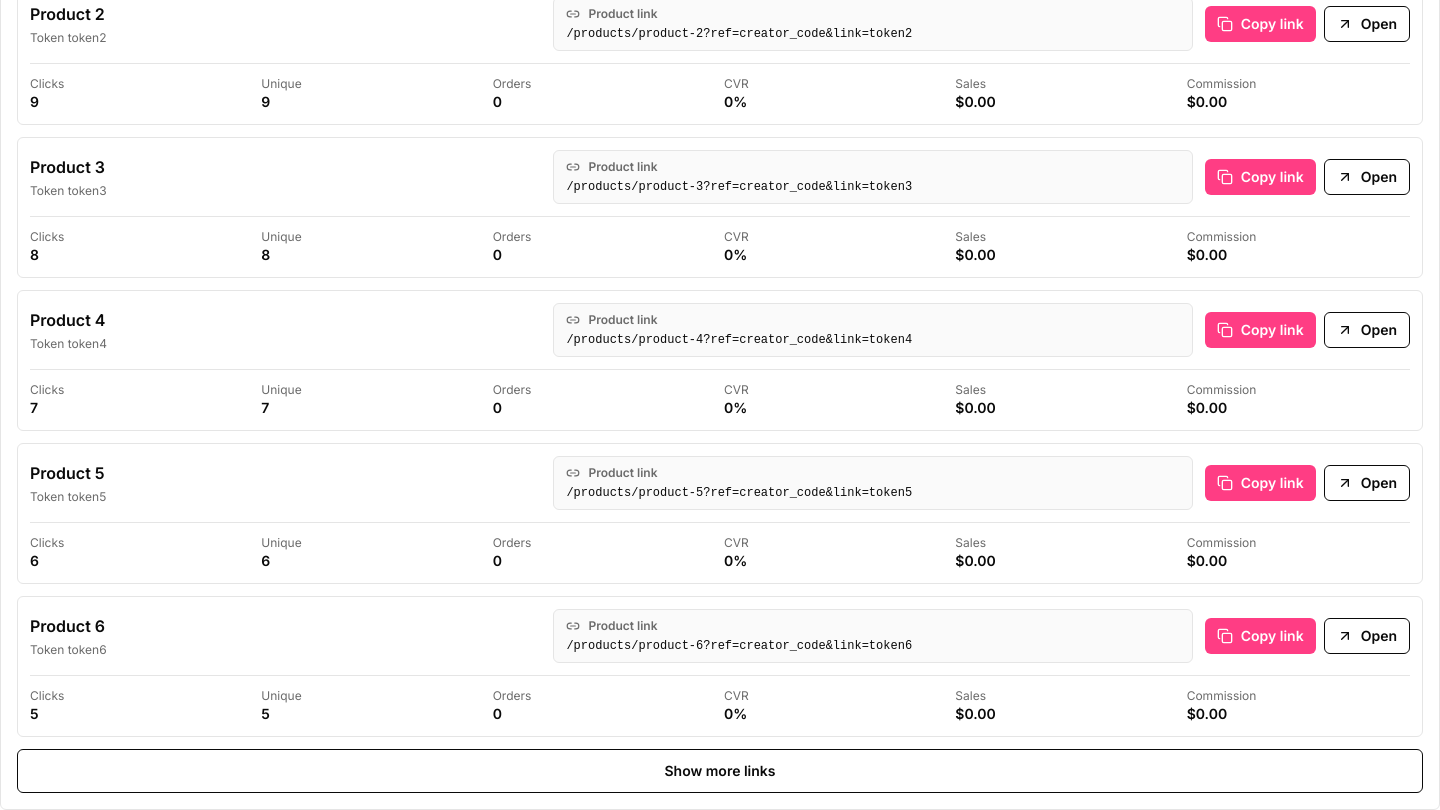
Test: PromoterPortalClient › keeps large product catalogs paged so commissions are not buried behind every link
(page scrolled)
Click the button "Show more links": (720, 771) [17,749,1423,793]
(page scrolled)
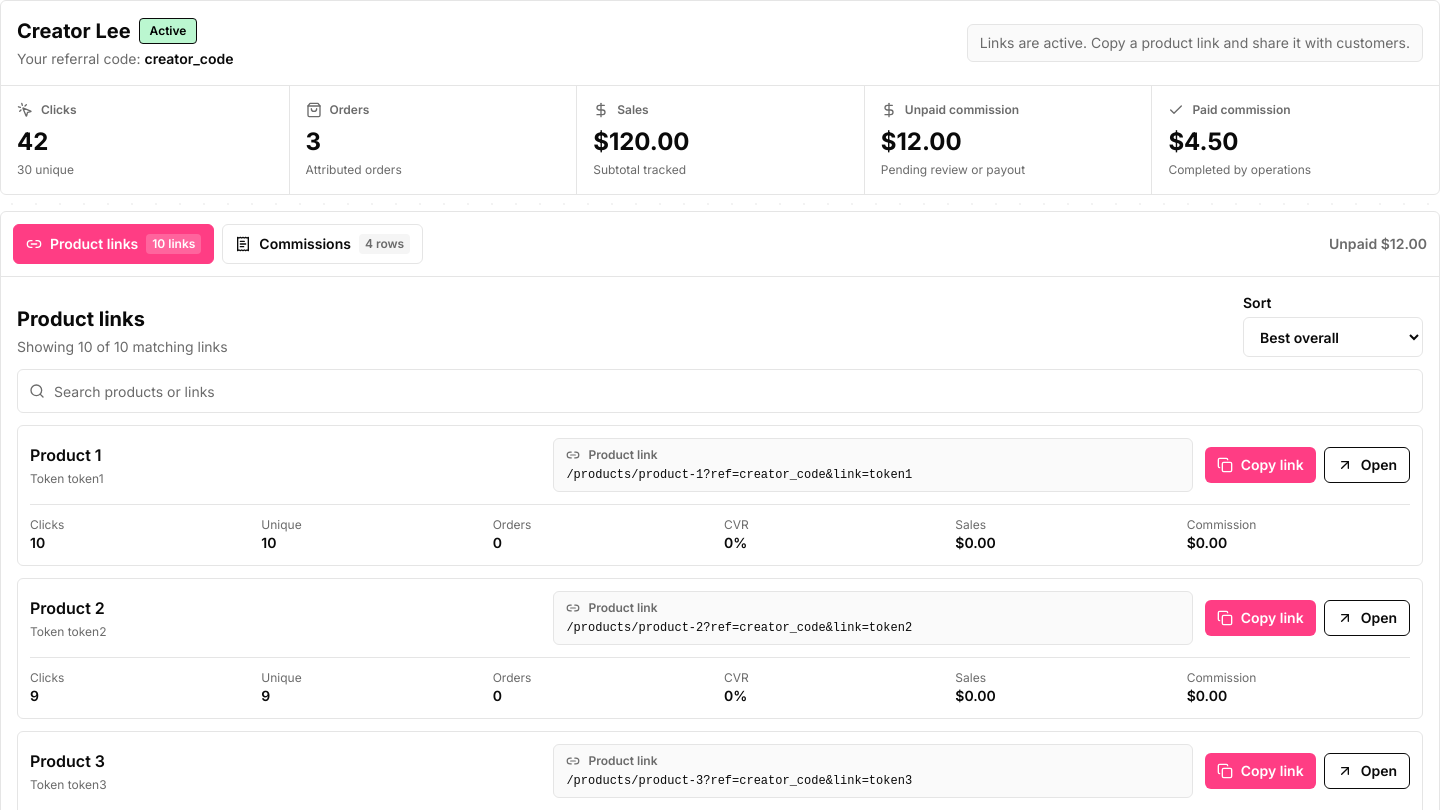
Expected: the text "Showing 10 of 10 matching links" is shown, [17,338,228,355]
In the field named "Search product links": (720, 391) [17,369,1423,413], type "Product 10"
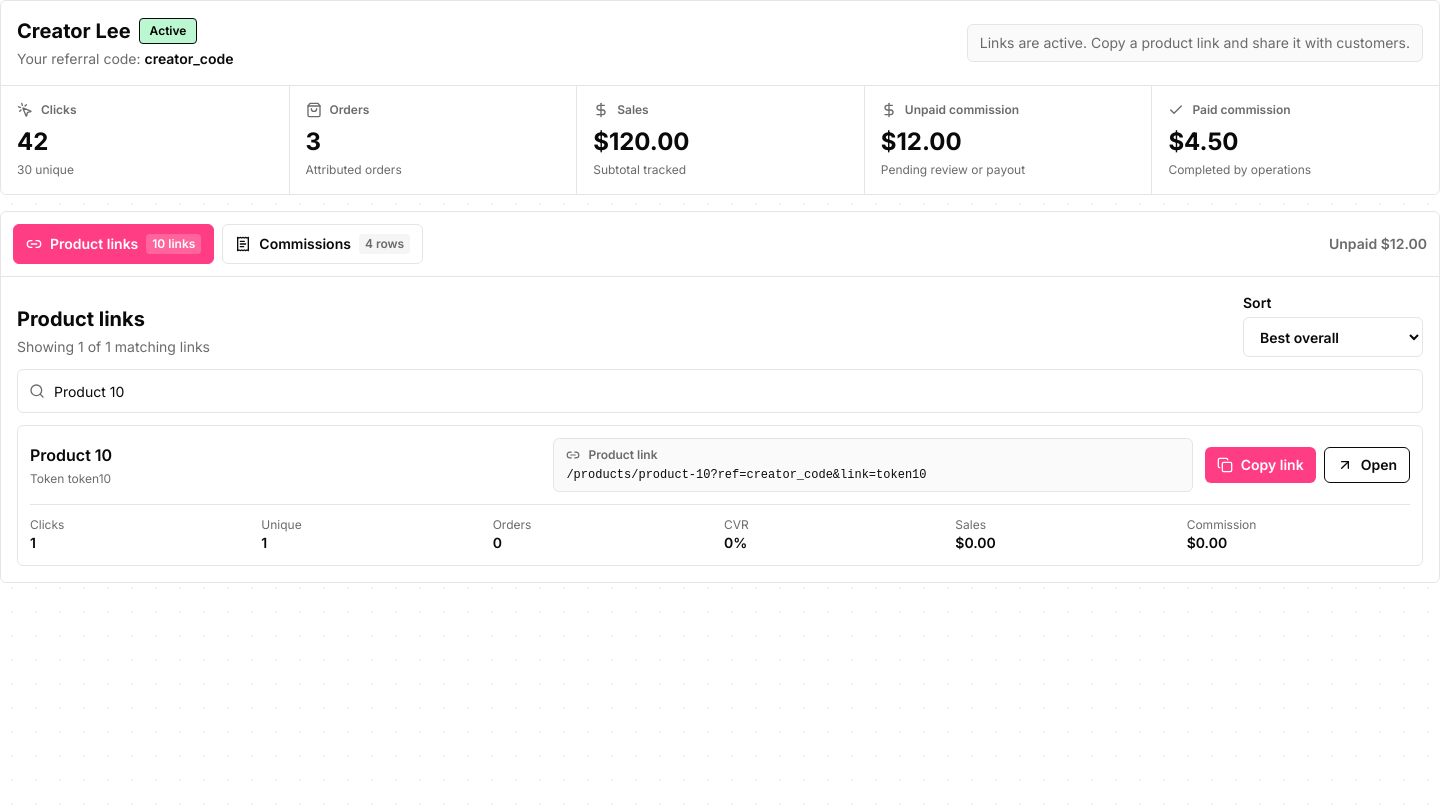
Expected: the button "Show more links" is not shown
Expected: the text "Showing 1 of 1 matching links" is shown, [17,338,210,355]
